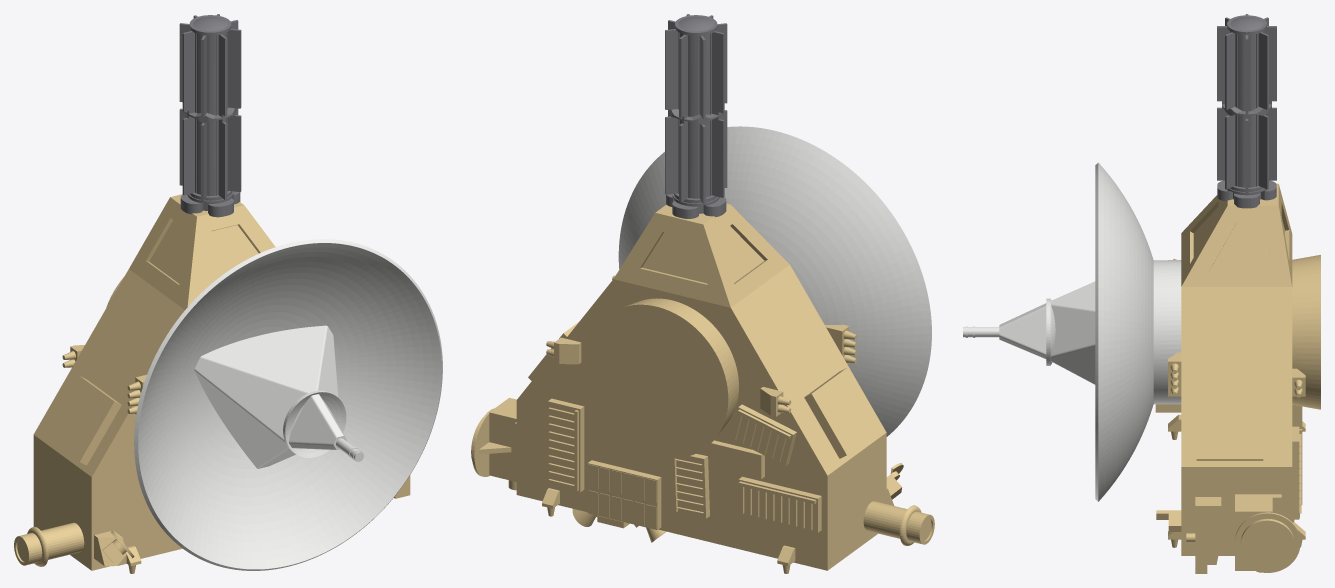
File: new-horizons.glb
The picture shows the model from 3 angles, left to right: view 1: azimuth 30°, elevation 25°; view 2: azimuth 150°, elevation 25°; view 3: azimuth 270°, elevation 25°; orthographic projection. The views are drawn at different scales.
Parts seen in each view (by area): view 1: 7399_05_rp_antenna.stl, 7399_05_rp_body.stl, 7399_05_rp_rtg.stl; view 2: 7399_05_rp_body.stl, 7399_05_rp_antenna.stl, 7399_05_rp_rtg.stl; view 3: 7399_05_rp_body.stl, 7399_05_rp_antenna.stl, 7399_05_rp_rtg.stl.
Boxes of the visible parts, x1,y1,x2,y2 form: 7399_05_rp_antenna.stl: (134, 239, 442, 570); 7399_05_rp_body.stl: (14, 194, 410, 573); 7399_05_rp_rtg.stl: (179, 14, 241, 217); 7399_05_rp_body.stl: (471, 203, 934, 573); 7399_05_rp_antenna.stl: (618, 126, 931, 436); 7399_05_rp_rtg.stl: (665, 14, 727, 218); 7399_05_rp_body.stl: (1155, 183, 1320, 573); 7399_05_rp_antenna.stl: (963, 162, 1181, 501); 7399_05_rp_rtg.stl: (1217, 14, 1276, 208).
Bounding box in the file's own units: 2.75 × 3.3 × 2.21.
